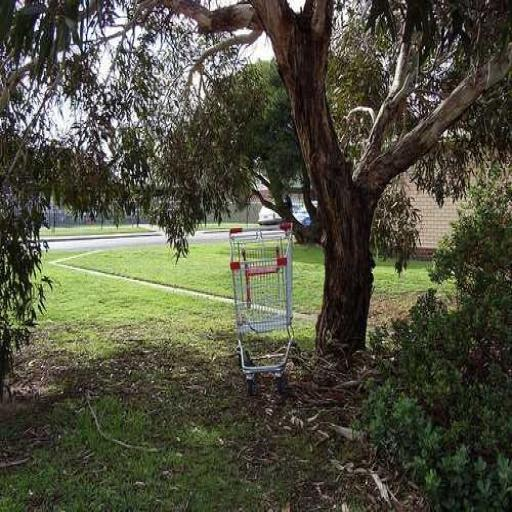shopping_cart: (228, 219, 297, 391)
